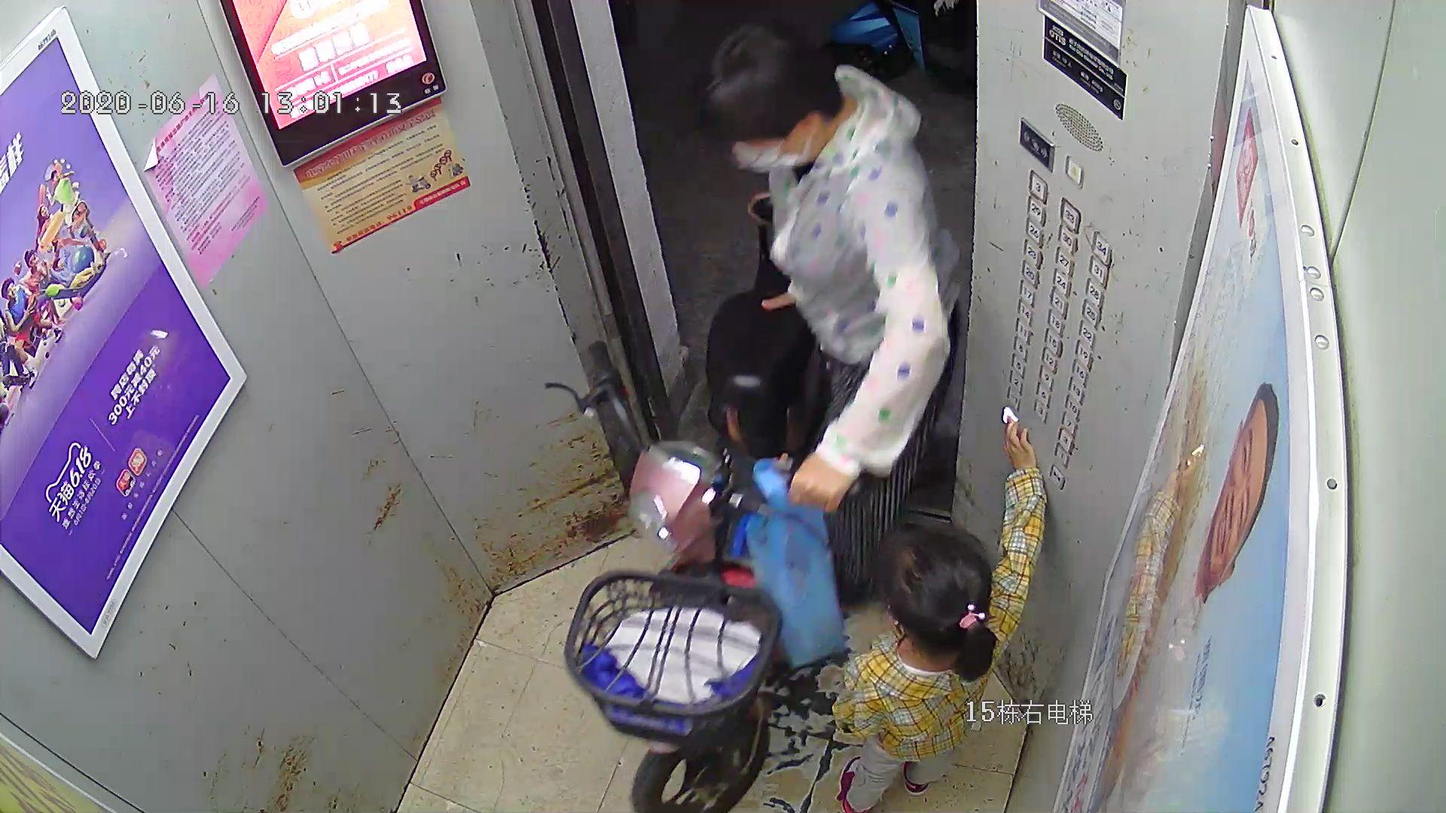Electric-bicycle: (547, 0, 903, 812)
